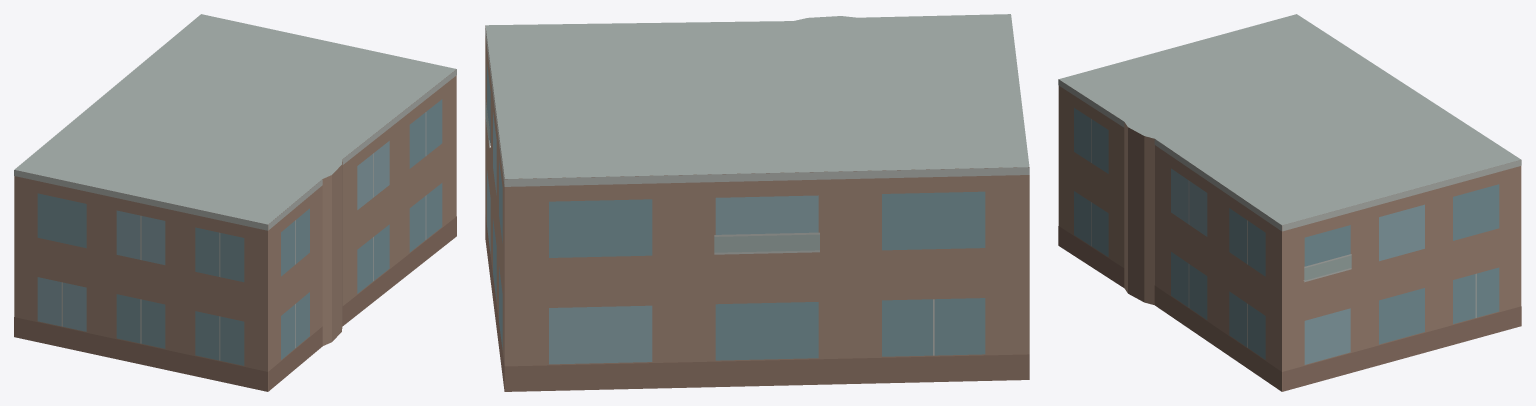
Rendered from survey-upis-32625120.glb.
3 views of the same model, side by side, from view 1: azimuth 30°, elevation 25°; view 2: azimuth 150°, elevation 25°; view 3: azimuth 270°, elevation 25° (orthographic). The views are drawn at different scales.
Parts seen in each view (by area): view 1: survey-upis-32625120.tmp; view 2: survey-upis-32625120.tmp; view 3: survey-upis-32625120.tmp.
Boxes of the visible parts, <box> form: survey-upis-32625120.tmp: <box>14,14,456,391</box>; survey-upis-32625120.tmp: <box>485,14,1029,391</box>; survey-upis-32625120.tmp: <box>1058,14,1521,391</box>.
Size of the model in its own units: 17.98 by 6.6 by 16.64.
